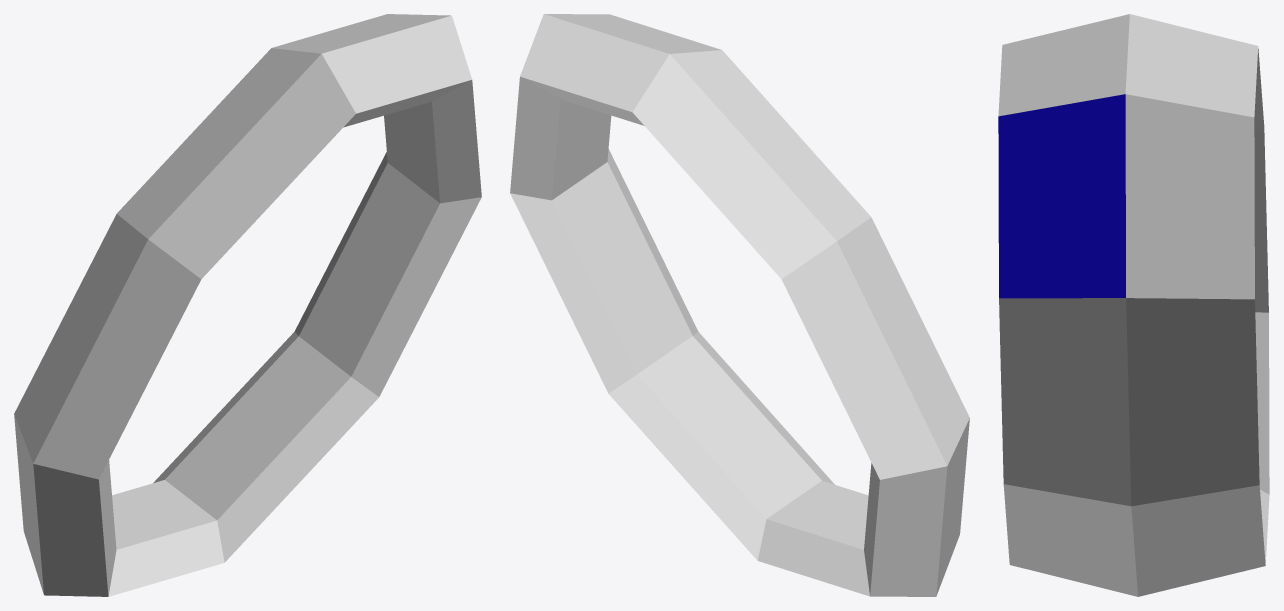
The model's file is AttachePont.FBX.
3 renders of one model, left to right at view 1: azimuth 30°, elevation 25°; view 2: azimuth 150°, elevation 25°; view 3: azimuth 270°, elevation 25°, orthographic. The views are drawn at different scales.
Visible parts, largest first — view 1: Torus001; view 2: Torus001; view 3: Torus001.
Part boxes in pixels (<box>): Torus001: <box>14,14,481,596</box>; Torus001: <box>510,14,969,596</box>; Torus001: <box>998,14,1269,596</box>.
Size of the model in its own units: 12.58 by 13.78 by 4.78.
